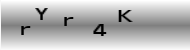4: (92, 23, 106, 37)
K: (116, 9, 132, 22)
Y: (34, 6, 48, 20)
r: (62, 16, 74, 27), (20, 25, 31, 35)
